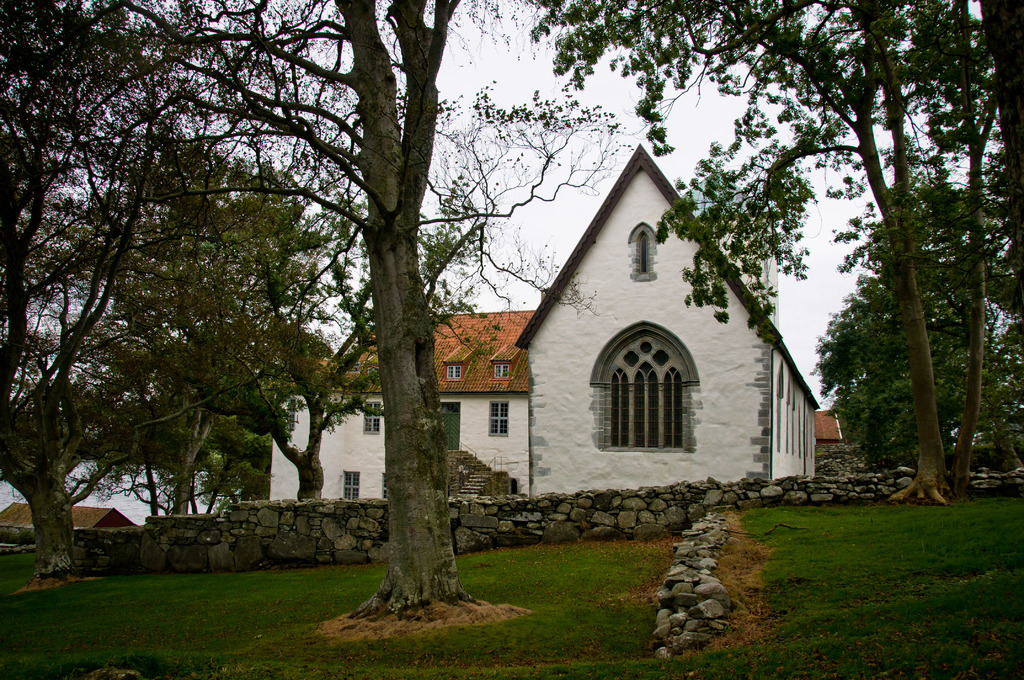Tree: (515, 0, 1001, 506), (93, 96, 528, 502), (0, 0, 287, 580), (774, 0, 1023, 494), (163, 186, 475, 505), (73, 147, 313, 510), (799, 202, 1005, 482), (145, 212, 304, 505), (44, 328, 284, 501), (879, 181, 1023, 466), (959, 0, 1023, 304)
